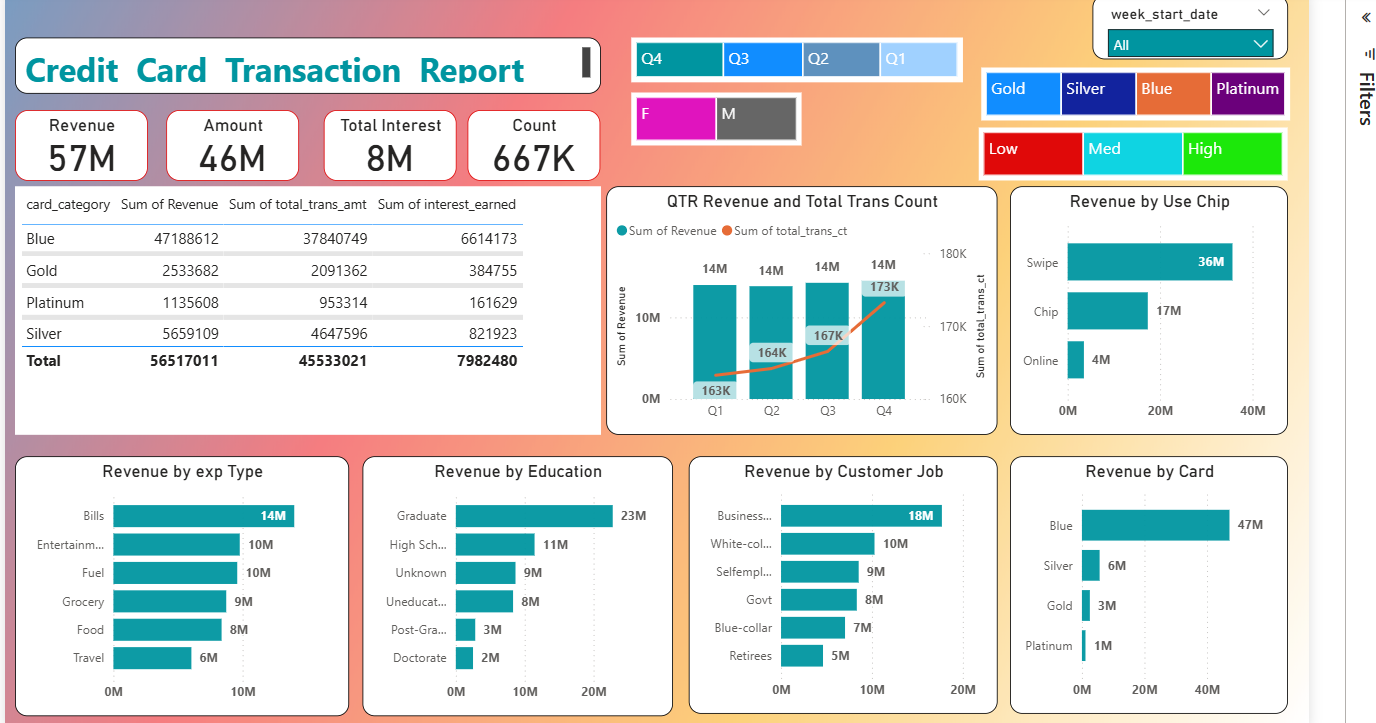

What the dashboard file says about the page in this screenshot:
{"tool":"powerbi","page":{"name":"CC.Transaction","canvas":[1280,720],"ordinal":1},"visuals":[{"type":"textbox","box":[9.6,41.2,575,54.9],"z":0},{"type":"lineStackedColumnComboChart","title":"QTR Revenue and Total Trans Count","fields":{"Category":["public cc_detail.qtr"],"Y":["Sum(public cc_detail.Revenue)"],"Y2":["Sum(public cc_detail.total_trans_ct)"]},"box":[590.1,188,384.2,244.3],"z":1000},{"type":"barChart","title":"Revenue by exp Type","fields":{"Y":["Sum(public cc_detail.Revenue)"],"Category":["public cc_detail.exp_type"]},"box":[9.6,452.8,328,255.2],"z":2000},{"type":"barChart","title":"Revenue by Education","fields":{"Y":["Sum(public cc_detail.Revenue)"],"Category":["public cust_detail.education_level"]},"box":[351.3,452.8,304.6,255.2],"z":3000},{"type":"barChart","title":"Revenue by Customer Job","fields":{"Y":["Sum(public cc_detail.Revenue)"],"Category":["public cust_detail.customer_job"]},"box":[671,452.8,303.3,252.5],"z":4000},{"type":"barChart","title":"Revenue by Card","fields":{"Y":["Sum(public cc_detail.Revenue)"],"Category":["public cc_detail.card_category"]},"box":[986.6,452.8,273.1,252.5],"z":5000},{"type":"barChart","title":"Revenue by Use Chip","fields":{"Y":["Sum(public cc_detail.Revenue)"],"Category":["public cc_detail.use_chip"]},"box":[986.6,188,273.1,244.3],"z":6000},{"type":"tableEx","fields":{"Values":["public cc_detail.card_category","Sum(public cc_detail.Revenue)","Sum(public cc_detail.total_trans_amt)","Sum(public cc_detail.interest_earned)"]},"box":[9.6,188,575,244.3],"z":7000},{"type":"card","title":"Revenue","fields":{"Values":["Sum(public cc_detail.Revenue)"]},"box":[9.6,112.5,130.4,70],"z":8000},{"type":"card","title":"Amount","fields":{"Values":["Sum(public cc_detail.total_trans_amt)"]},"box":[157.8,112.5,130.4,70],"z":9000},{"type":"card","title":"Total Interest","fields":{"Values":["Sum(public cc_detail.interest_earned)"]},"box":[312.9,112.5,130.4,70],"z":10000},{"type":"card","title":"Count","fields":{"Values":["Sum(public cc_detail.total_trans_ct)"]},"box":[454.2,112.5,130.4,70],"z":11000},{"type":"slicer","fields":{"Values":["public cc_detail.week_start_date"]},"box":[1067.6,0,192.1,63.1],"z":12000},{"type":"treemap","fields":{"Group":["public cc_detail.qtr"],"Values":["Avg(public cust_detail.client_num)"]},"box":[614.8,41.2,325.2,43.9],"z":13000},{"type":"treemap","fields":{"Group":["public cust_detail.gender"],"Values":["Avg(public cust_detail.client_num)"]},"box":[614.8,96.1,167.4,52.1],"z":14000},{"type":"treemap","fields":{"Group":["public cc_detail.card_category"],"Values":["Avg(public cust_detail.client_num)"]},"box":[957.8,71.4,303.3,52.1],"z":15000},{"type":"treemap","fields":{"Group":["public cust_detail.IncomeGroup"],"Values":["Avg(public cust_detail.client_num)"]},"box":[956.4,130.4,303.3,52.1],"z":16000}]}

Visuals, with their boxes in screenshot pixels (x1, y1, x2, y2):
textbox: 3:32:594:88
"QTR Revenue and Total Trans Count" lineStackedColumnComboChart: 599:182:994:434
"Revenue by exp Type" barChart: 3:455:340:717
"Revenue by Education" barChart: 354:455:667:717
"Revenue by Customer Job" barChart: 683:455:994:714
"Revenue by Card" barChart: 1007:455:1288:714
"Revenue by Use Chip" barChart: 1007:182:1288:434
tableEx - public cc_detail.card_category x Sum(public cc_detail.Revenue): 3:182:594:434
"Revenue" card: 3:105:137:177
"Amount" card: 155:105:289:177
"Total Interest" card: 314:105:448:177
"Count" card: 460:105:594:177
slicer - public cc_detail.week_start_date: 1090:0:1288:54
treemap - public cc_detail.qtr x Avg(public cust_detail.client_num): 625:32:959:77
treemap - public cust_detail.gender x Avg(public cust_detail.client_num): 625:88:797:142
treemap - public cc_detail.card_category x Avg(public cust_detail.client_num): 977:63:1289:116
treemap - public cust_detail.IncomeGroup x Avg(public cust_detail.client_num): 976:123:1288:177
